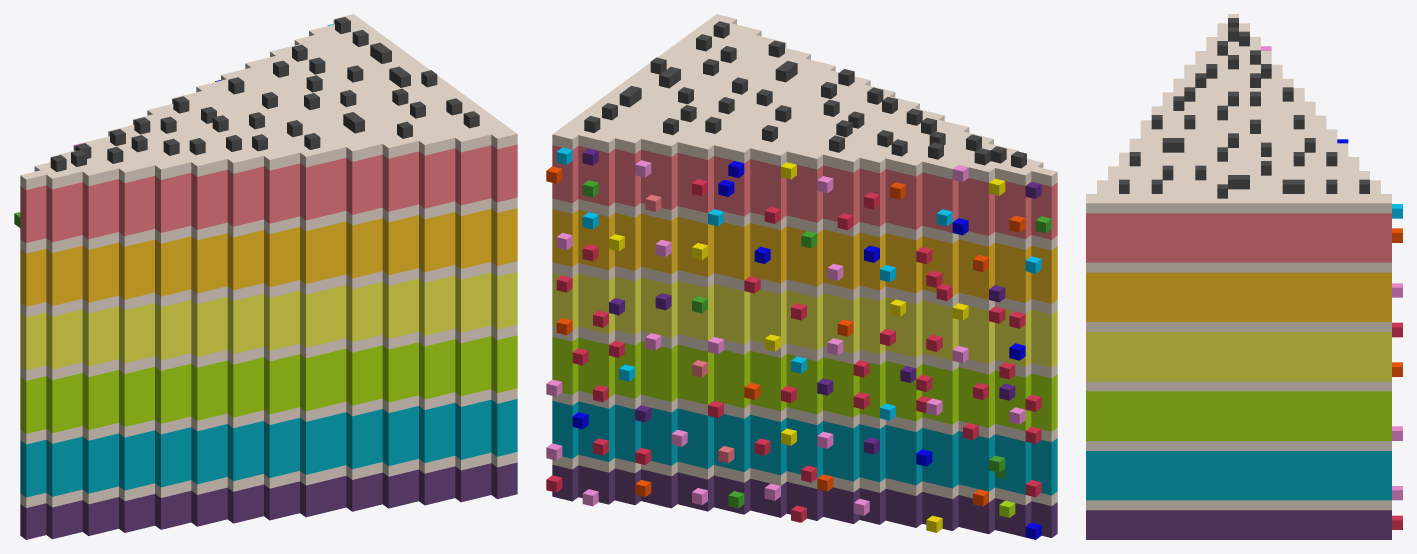
The model's file is Eruption-30.obj.
3 renders of one model, left to right at view 1: azimuth 30°, elevation 25°; view 2: azimuth 150°, elevation 25°; view 3: azimuth 270°, elevation 25°, orthographic. The views are drawn at different scales.
Bounding box in the file's own units: 4.1 × 3.5 × 2.9.
1 material, 1 textured.
